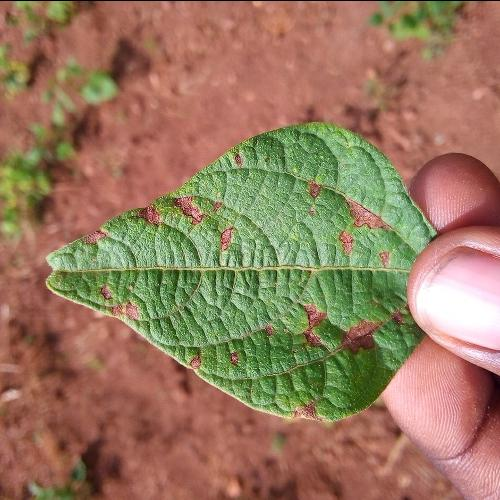hawar: (62, 226, 146, 324), (346, 184, 396, 244), (345, 293, 385, 366), (176, 186, 214, 259), (298, 291, 328, 359), (208, 218, 242, 252), (293, 392, 329, 420), (184, 348, 214, 380), (140, 198, 169, 231), (334, 226, 358, 261), (224, 148, 252, 174), (302, 173, 324, 198), (227, 349, 250, 369), (263, 318, 281, 342)
mozaik: (185, 271, 253, 333)
